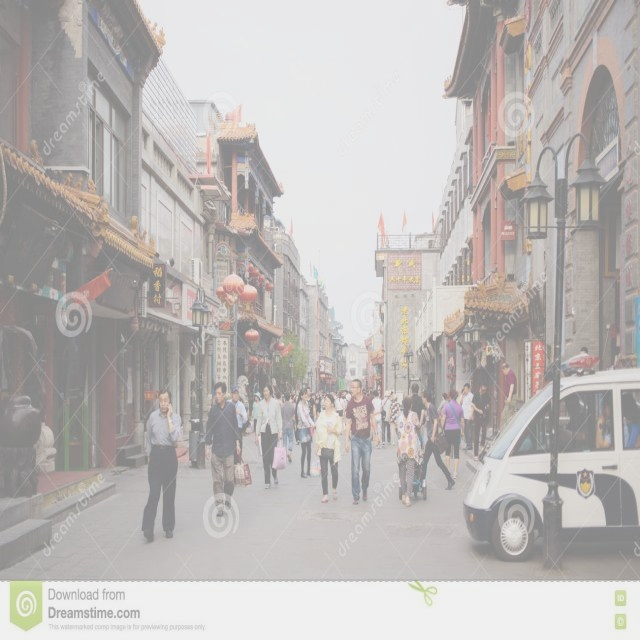pessoa: (140, 386, 182, 544), (342, 377, 380, 506), (206, 381, 240, 518), (421, 389, 456, 492), (314, 391, 344, 504), (394, 393, 422, 508), (256, 382, 282, 493), (438, 388, 466, 480), (293, 386, 317, 479), (594, 392, 630, 450), (226, 384, 250, 466), (469, 378, 492, 463), (458, 381, 476, 452), (500, 362, 518, 432), (280, 392, 296, 464), (564, 391, 585, 432), (371, 390, 384, 450), (408, 382, 426, 425), (380, 390, 393, 446), (443, 391, 455, 450), (388, 394, 401, 447), (459, 387, 471, 440), (341, 392, 353, 442), (622, 392, 640, 425), (250, 391, 262, 436), (306, 386, 318, 425), (274, 390, 284, 432), (293, 394, 301, 446), (310, 388, 350, 398), (241, 408, 252, 438), (334, 390, 345, 418), (436, 392, 448, 413), (315, 391, 323, 418), (361, 388, 374, 396), (288, 390, 296, 402), (578, 346, 588, 354), (320, 394, 325, 406), (368, 394, 373, 402), (378, 391, 380, 398)
